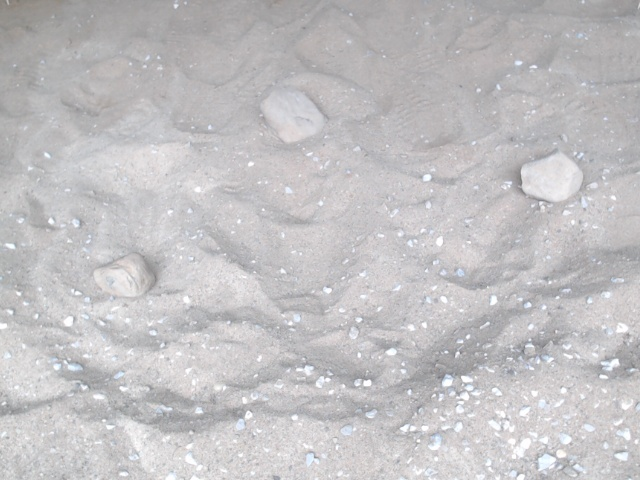rock: (256, 83, 331, 146), (515, 146, 587, 208), (89, 247, 160, 303)
